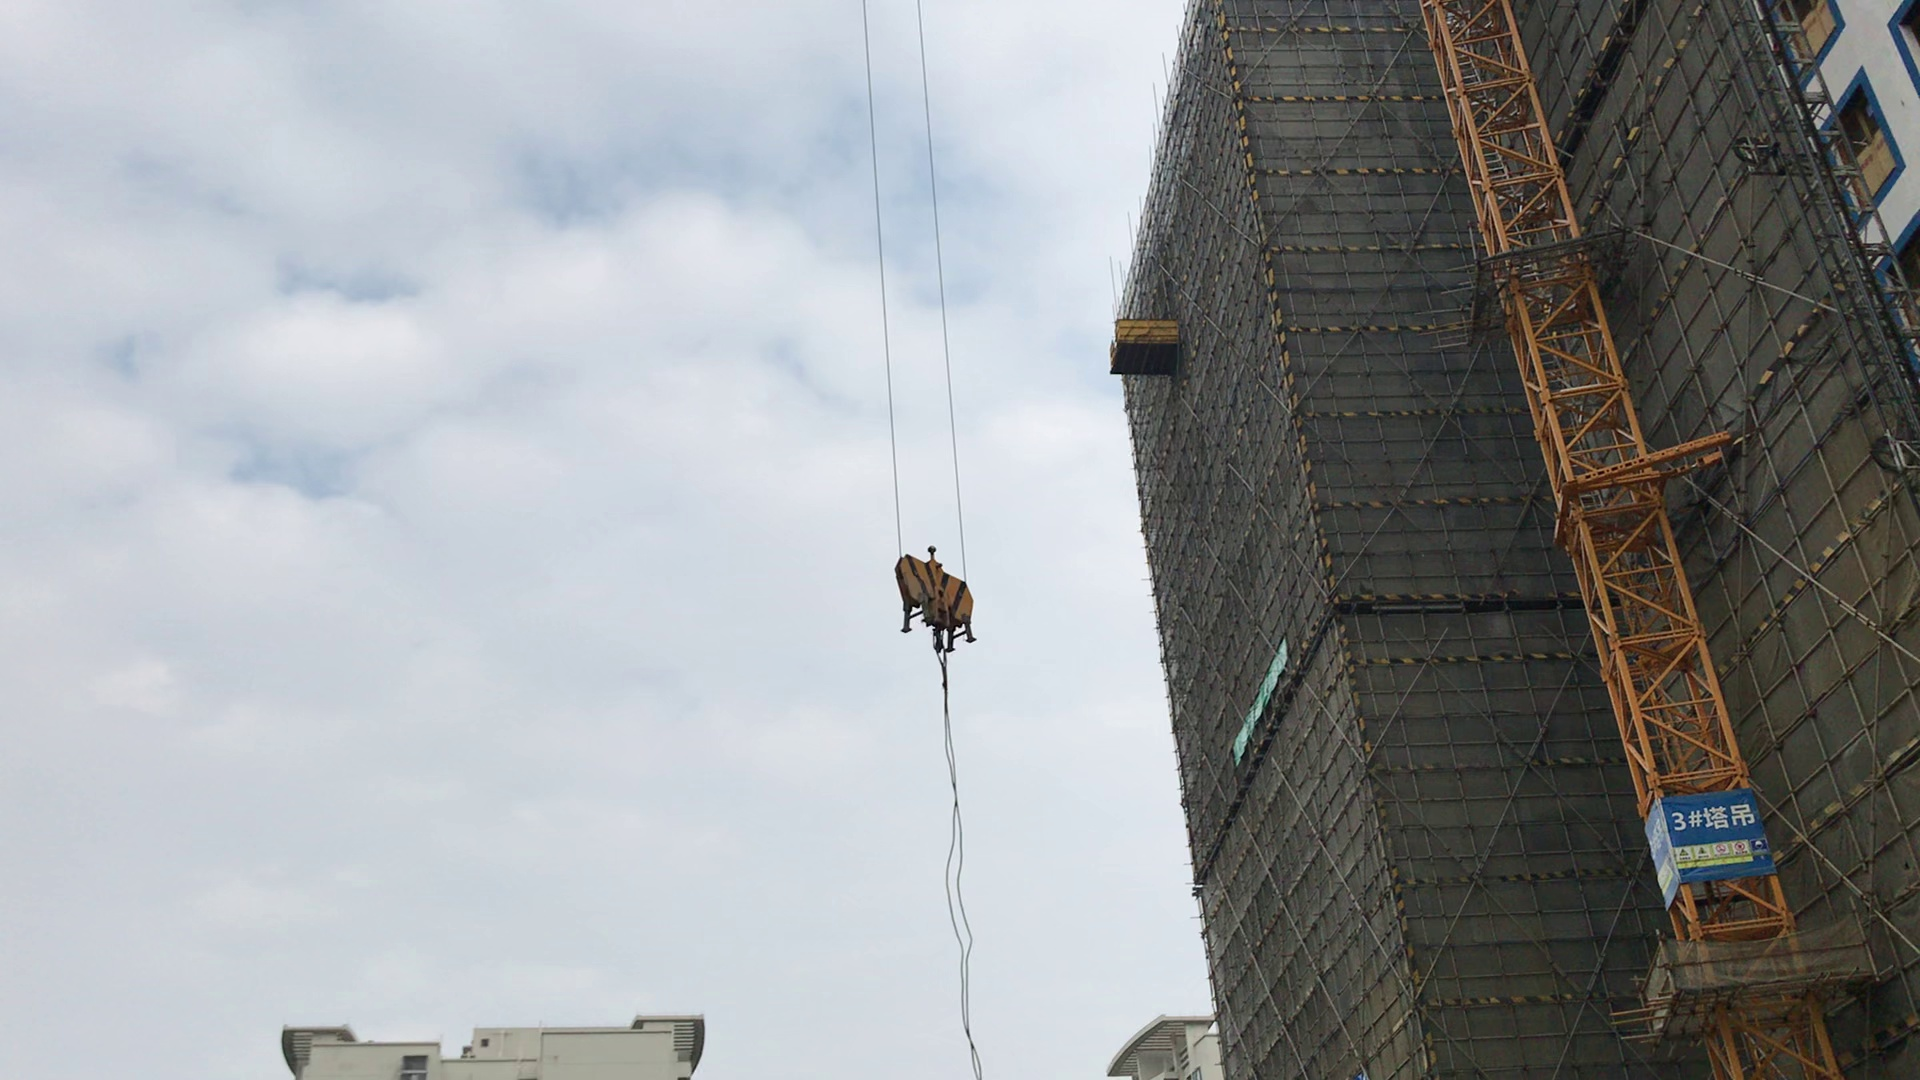hook: (868, 530, 998, 659)
slogan: (1237, 641, 1290, 765)
